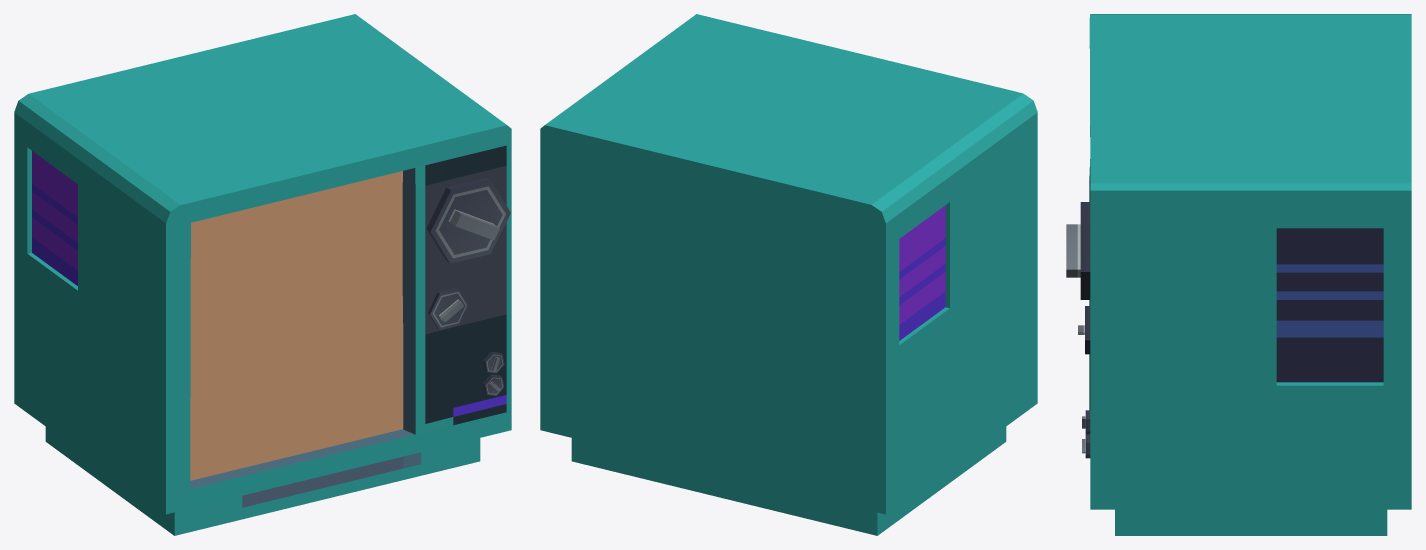
File: Prop_TV02.fbx
The picture shows the model from 3 angles, left to right: view 1: azimuth 30°, elevation 25°; view 2: azimuth 150°, elevation 25°; view 3: azimuth 270°, elevation 25°; orthographic projection. The views are drawn at different scales.
Parts seen in each view (by area): view 1: Cube.434; view 2: Cube.434; view 3: Cube.434.
Boxes of the visible parts, x1,y1,x2,y2 form: Cube.434: [14, 14, 511, 535]; Cube.434: [540, 14, 1037, 535]; Cube.434: [1066, 14, 1411, 535].
Size of the model in its own units: 61.66 by 58.09 by 50.45.
